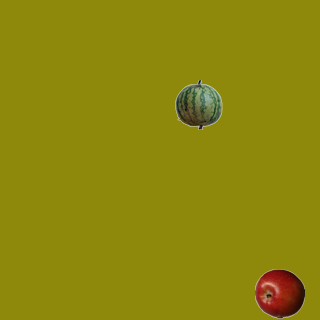Apple Braeburn: (254, 268, 304, 318)
Watermelon: (173, 79, 223, 129)
